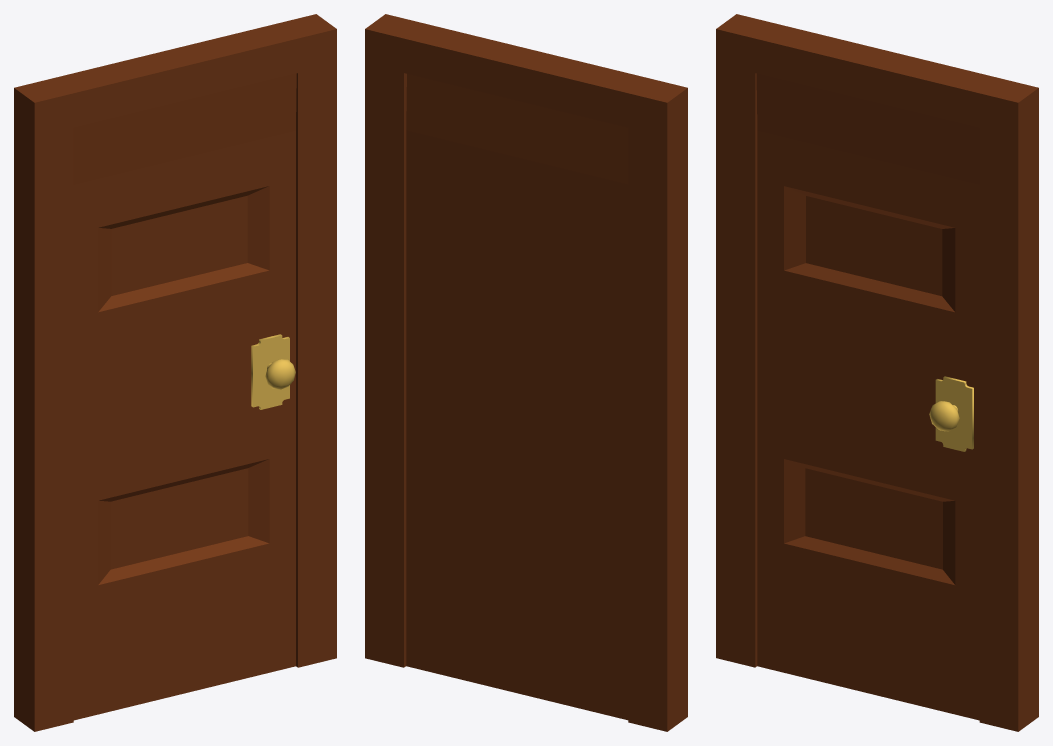
Rendered from door.fbx.
3 renders of one model, left to right at view 1: azimuth 30°, elevation 25°; view 2: azimuth 150°, elevation 25°; view 3: azimuth 330°, elevation 25°, orthographic.
Visible parts, largest first — view 1: Door, Door Frame; view 2: Door, Door Frame; view 3: Door, Door Frame.
Part boxes in pixels (x1,y1,x2,y2): Door: [73, 73, 296, 720]; Door Frame: [14, 14, 336, 731]; Door: [406, 74, 628, 720]; Door Frame: [365, 14, 687, 731]; Door: [756, 73, 979, 720]; Door Frame: [716, 14, 1038, 731].
Size of the model in its own units: 3229 by 644 by 6423.
